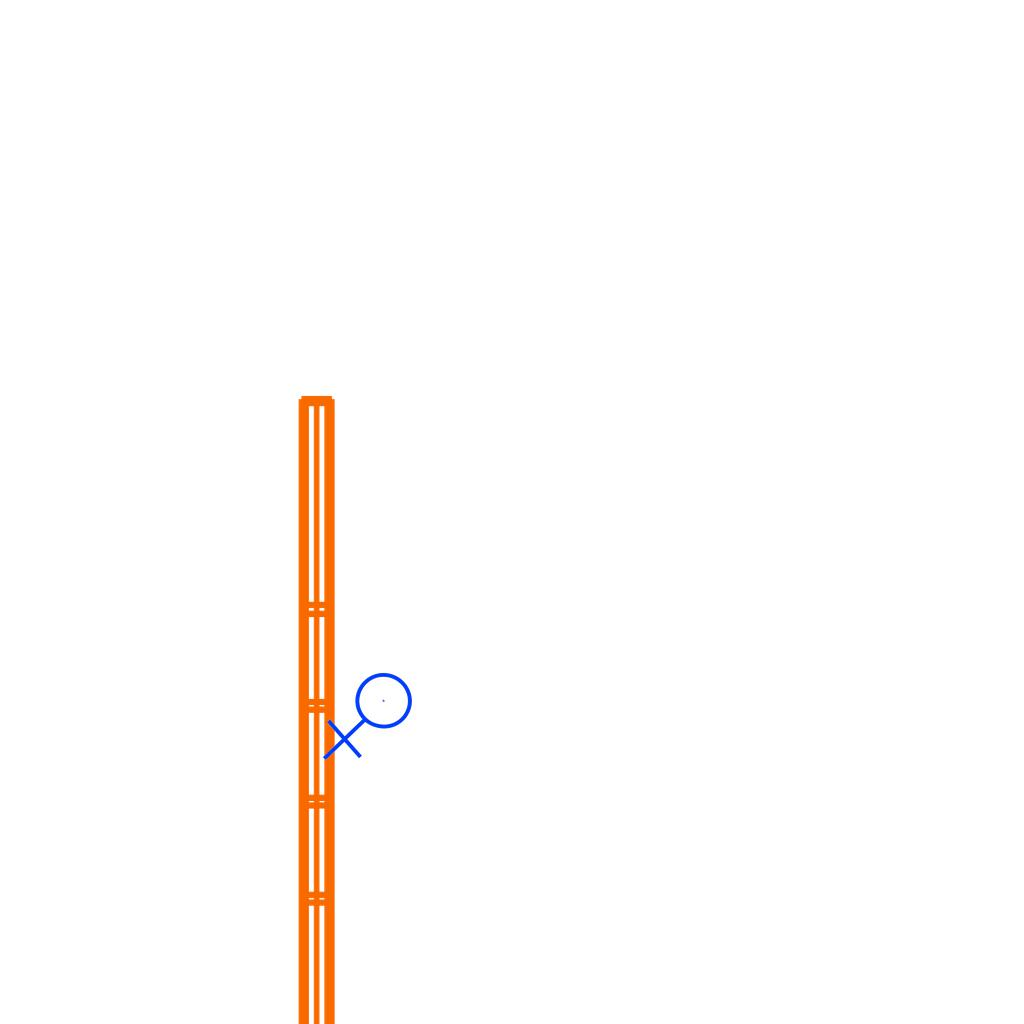Ambulanz_Pendelleuchte_LED: (286, 385, 398, 1024)
Elektroanschluss_allgemein_230V_Geraeteanschlussdose_230V: (322, 671, 421, 765)
